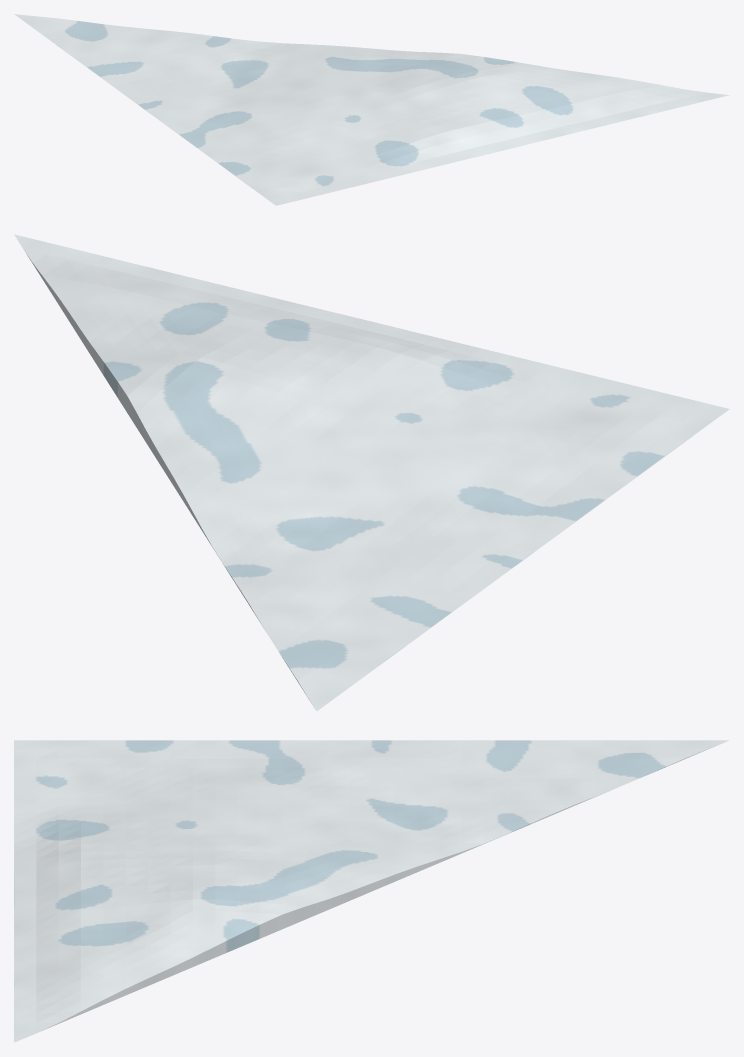
The model's file is Snow_Flat_12_NW.obj.
3 renders of one model, top to bottom at view 1: azimuth 30°, elevation 25°; view 2: azimuth 150°, elevation 25°; view 3: azimuth 270°, elevation 25°, orthographic. The views are drawn at different scales.
Bounding box in the file's own units: 10 × 0.3153 × 10.
1 material, 1 textured.
